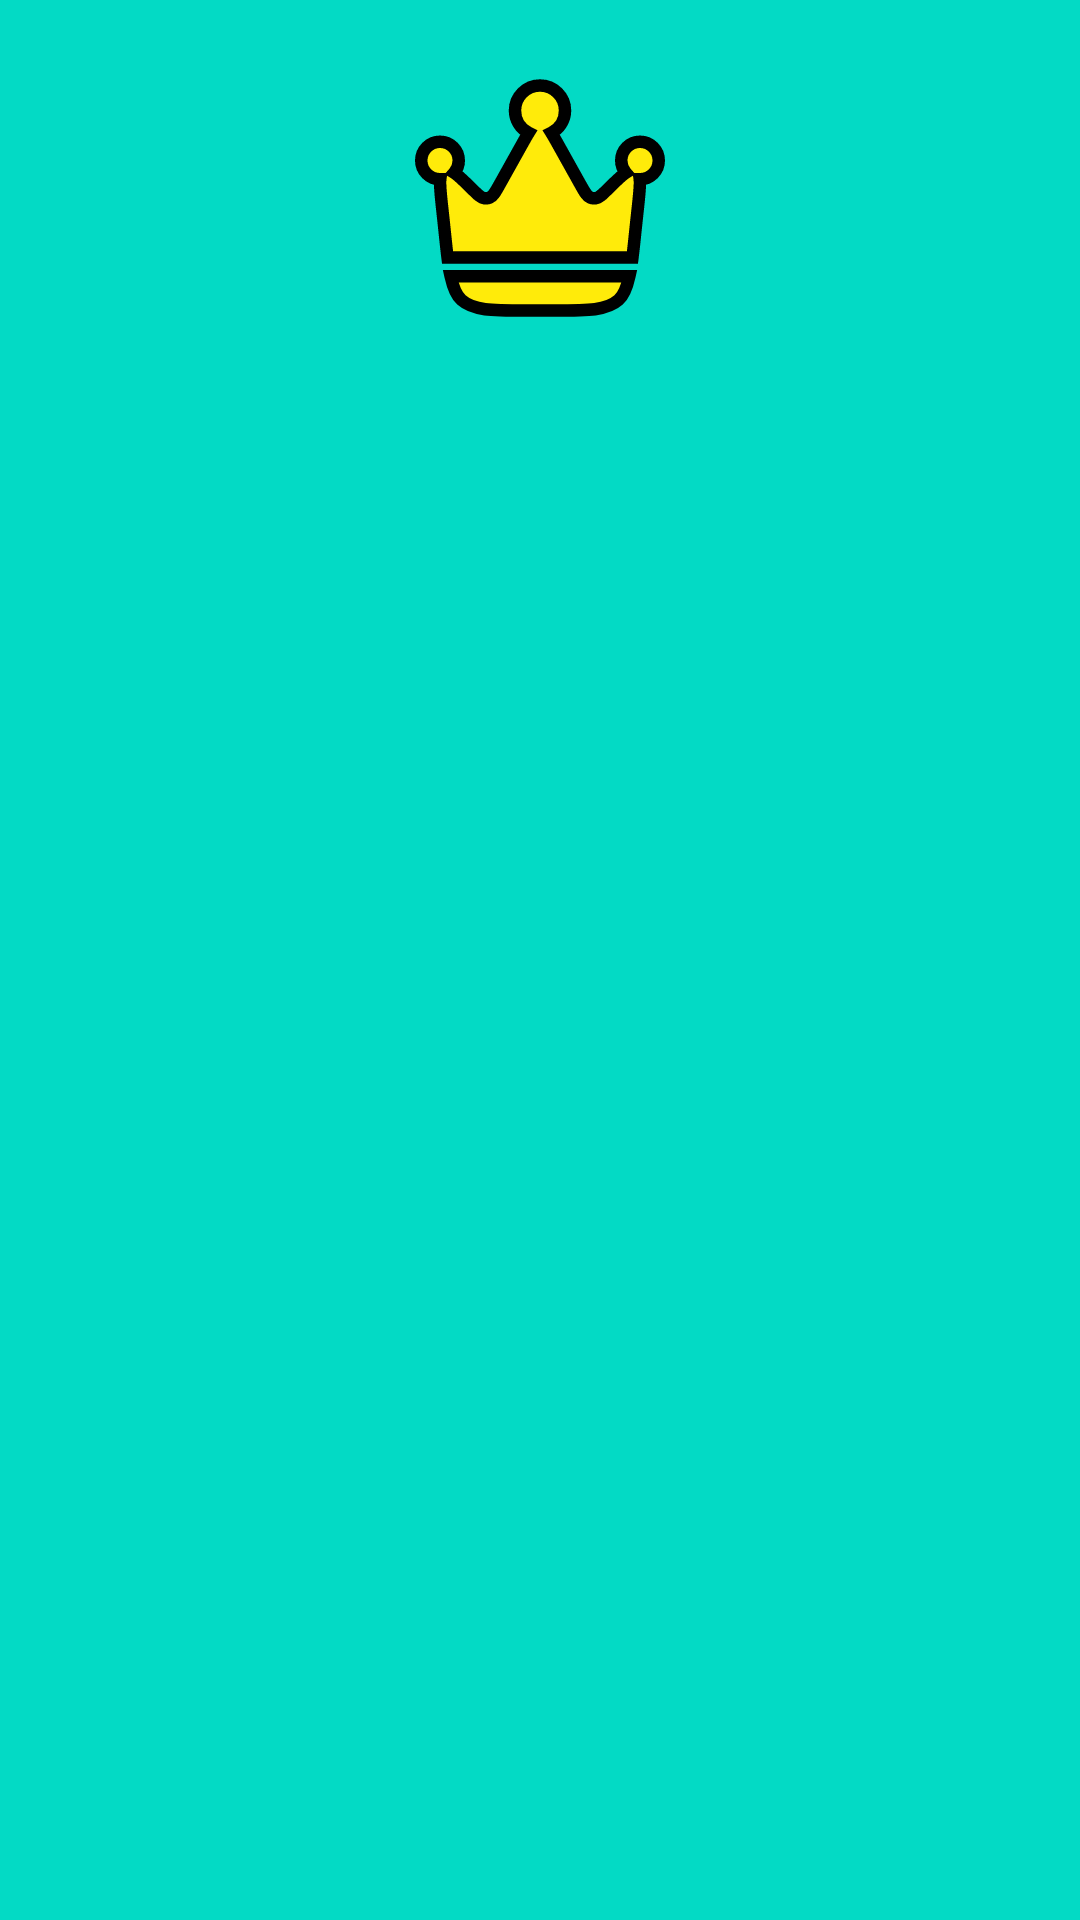

Where to tap for icons on this 1080×1920 app screen, as point (x, y):
crown: point (540, 198)
